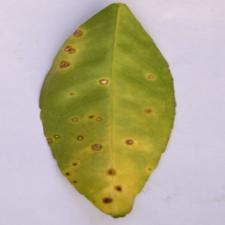Canker: (42, 23, 160, 206)
